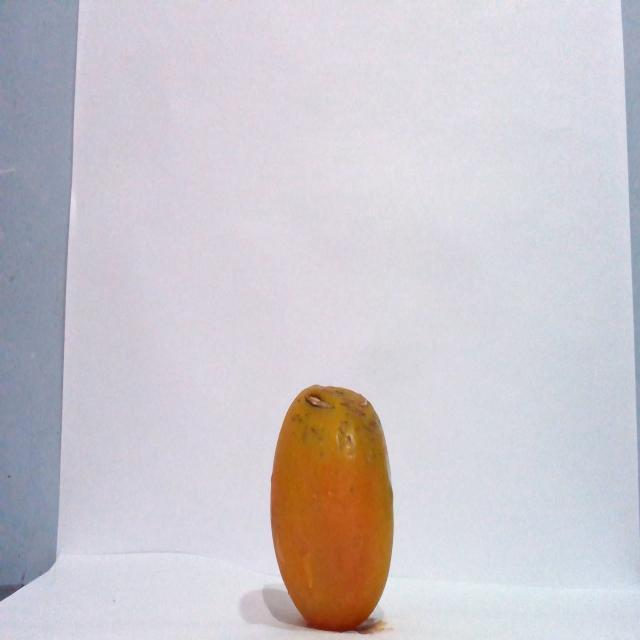Red: (268, 383, 395, 631)
